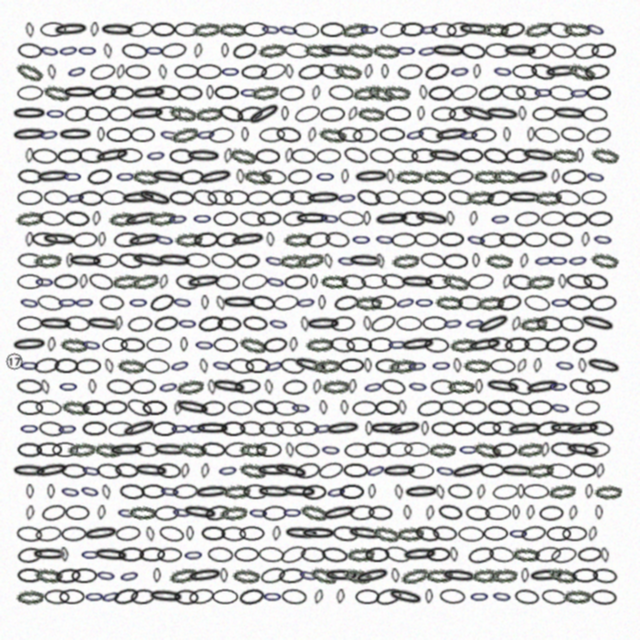chain: (245, 99, 284, 129), (474, 310, 513, 338), (120, 416, 159, 441), (458, 102, 497, 126), (135, 186, 174, 210), (578, 312, 617, 335), (291, 354, 330, 377), (196, 166, 235, 188), (122, 208, 161, 230), (584, 355, 623, 377), (271, 460, 310, 482), (449, 460, 488, 482), (320, 502, 359, 524), (353, 565, 392, 587), (386, 586, 425, 608), (93, 145, 132, 166), (412, 208, 451, 229), (129, 250, 168, 271), (173, 397, 212, 418), (385, 418, 424, 439), (32, 460, 71, 481), (126, 230, 164, 250), (466, 335, 504, 355), (524, 377, 562, 397), (564, 440, 602, 460), (14, 60, 45, 84), (433, 125, 471, 144), (520, 146, 558, 165), (229, 230, 267, 249), (185, 272, 223, 291), (399, 335, 437, 354), (210, 377, 248, 396), (484, 377, 522, 396), (324, 419, 362, 438), (181, 503, 219, 522), (82, 524, 120, 543), (346, 524, 384, 543), (186, 566, 224, 585), (125, 396, 154, 420), (318, 42, 356, 60), (130, 84, 168, 102), (483, 105, 521, 123), (426, 147, 464, 165), (149, 168, 187, 186), (513, 168, 551, 186), (373, 210, 411, 228), (84, 315, 122, 333), (506, 420, 544, 438), (564, 420, 602, 438), (193, 483, 231, 501), (92, 546, 130, 564), (440, 567, 478, 585), (566, 61, 597, 83), (365, 82, 396, 104), (169, 124, 200, 146), (399, 565, 430, 587), (369, 312, 398, 335), (506, 375, 535, 398), (279, 543, 308, 566), (52, 21, 90, 38), (543, 63, 581, 80), (132, 462, 170, 479), (401, 546, 439, 563), (147, 588, 185, 605), (148, 291, 176, 314), (293, 103, 322, 125), (523, 19, 553, 40), (295, 250, 325, 271), (130, 271, 160, 292), (299, 502, 329, 523), (168, 565, 198, 586), (309, 565, 339, 586), (457, 21, 494, 38), (129, 105, 166, 122), (551, 105, 588, 122), (11, 126, 48, 143), (35, 168, 72, 185), (353, 168, 390, 185), (41, 231, 78, 248), (156, 252, 193, 269), (11, 336, 48, 353), (281, 483, 318, 500), (283, 525, 320, 542), (528, 567, 565, 584), (217, 103, 245, 125), (259, 61, 288, 82), (383, 544, 412, 565), (374, 586, 403, 607), (340, 20, 370, 40), (42, 83, 72, 103), (351, 83, 381, 103), (228, 146, 258, 166), (441, 272, 471, 292), (238, 335, 268, 355), (175, 377, 205, 397), (472, 440, 502, 460), (371, 524, 401, 544), (99, 22, 136, 38), (430, 43, 467, 59), (502, 43, 539, 59), (185, 148, 222, 164), (120, 190, 157, 206), (305, 190, 342, 206), (67, 253, 104, 269), (347, 253, 384, 269), (399, 274, 436, 290), (37, 316, 74, 332), (305, 316, 342, 332), (108, 442, 145, 458), (152, 442, 189, 458), (11, 463, 48, 479), (381, 463, 418, 479), (499, 463, 536, 479), (256, 484, 293, 500), (403, 484, 440, 500), (231, 40, 259, 61), (423, 61, 451, 82), (529, 61, 557, 82), (342, 145, 370, 166), (191, 187, 219, 208), (355, 187, 383, 208), (87, 271, 115, 292), (568, 376, 596, 397), (506, 397, 534, 418), (317, 460, 345, 481), (40, 502, 68, 523), (259, 565, 287, 586), (112, 586, 140, 607), (257, 41, 287, 60), (333, 62, 363, 81), (250, 83, 280, 102), (168, 104, 198, 123), (590, 146, 620, 165), (147, 209, 177, 228), (515, 440, 545, 459), (238, 461, 268, 480), (525, 461, 555, 480), (547, 482, 577, 501), (548, 566, 578, 585), (89, 62, 117, 82), (297, 62, 325, 82), (236, 104, 264, 124), (417, 125, 445, 145), (533, 125, 561, 145), (36, 293, 64, 313), (523, 293, 551, 313), (416, 398, 444, 418), (467, 545, 495, 565), (550, 545, 578, 565), (61, 85, 98, 100), (11, 106, 48, 121), (57, 127, 94, 142), (506, 190, 543, 205), (294, 211, 331, 226), (221, 295, 258, 310), (194, 421, 231, 436), (368, 421, 405, 436), (548, 421, 585, 436), (255, 463, 292, 478), (300, 526, 337, 541), (31, 547, 68, 562), (323, 568, 360, 583), (192, 20, 221, 39), (15, 209, 44, 228), (590, 251, 619, 270), (111, 272, 140, 291), (499, 20, 526, 40), (547, 20, 574, 40), (573, 41, 600, 61), (477, 83, 504, 103), (585, 125, 612, 145), (333, 293, 360, 313), (571, 335, 598, 355), (279, 356, 306, 376), (380, 377, 407, 397), (204, 503, 231, 523), (158, 524, 185, 544), (414, 524, 441, 544), (126, 20, 154, 39), (379, 20, 407, 39), (160, 41, 188, 60), (451, 83, 479, 102), (554, 188, 582, 207), (241, 272, 269, 291), (467, 272, 495, 291), (565, 272, 593, 291), (272, 293, 300, 312), (33, 356, 61, 375), (488, 545, 516, 564), (534, 545, 562, 564), (583, 19, 608, 40), (194, 105, 223, 123), (318, 126, 347, 144), (243, 168, 272, 186), (108, 210, 137, 228), (391, 252, 420, 270), (526, 273, 555, 291), (476, 294, 505, 312), (519, 315, 548, 333), (449, 336, 478, 354), (312, 357, 341, 375), (388, 357, 417, 375), (219, 504, 248, 522), (343, 567, 372, 585), (318, 62, 345, 81), (91, 83, 118, 102), (275, 125, 302, 144), (482, 146, 509, 165), (86, 167, 113, 186), (269, 188, 296, 207), (447, 188, 474, 207), (305, 230, 332, 249), (324, 230, 351, 249), (117, 251, 144, 270), (210, 251, 237, 270), (419, 251, 446, 270), (380, 272, 407, 291), (582, 272, 609, 291), (496, 293, 523, 312), (153, 314, 180, 333), (197, 314, 224, 333), (544, 335, 571, 354), (252, 398, 279, 417), (535, 419, 562, 438), (588, 419, 615, 438), (294, 461, 321, 480), (437, 503, 464, 522), (520, 524, 547, 543), (188, 587, 215, 606), (238, 587, 265, 606), (447, 168, 475, 186), (364, 460, 388, 481), (345, 42, 374, 59), (382, 84, 411, 101), (466, 189, 495, 206), (174, 231, 203, 248), (283, 231, 312, 248), (33, 252, 62, 269), (305, 336, 334, 353), (321, 378, 350, 395), (61, 399, 90, 416), (67, 441, 96, 458), (178, 441, 207, 458), (222, 483, 251, 500), (346, 546, 375, 563), (34, 567, 63, 584), (471, 567, 500, 584), (489, 567, 518, 584), (121, 42, 148, 60), (548, 84, 575, 102), (208, 126, 235, 144), (486, 189, 513, 207), (239, 210, 266, 228), (514, 210, 541, 228), (340, 273, 367, 291), (508, 273, 535, 291), (249, 294, 276, 312), (590, 294, 617, 312), (262, 336, 289, 354), (329, 336, 356, 354), (228, 357, 255, 375), (574, 399, 601, 417), (38, 420, 65, 438), (276, 420, 303, 438), (546, 462, 573, 480), (492, 483, 519, 501), (16, 525, 43, 543), (35, 525, 62, 543), (321, 546, 348, 564), (262, 356, 286, 376), (460, 42, 486, 60), (527, 42, 553, 60), (550, 42, 576, 60), (515, 84, 541, 102), (261, 168, 287, 186), (175, 273, 201, 291), (127, 315, 153, 333), (559, 315, 585, 333), (439, 399, 465, 417), (294, 441, 320, 459), (96, 462, 122, 480), (17, 546, 43, 564), (55, 567, 81, 585), (592, 567, 618, 585), (514, 588, 540, 606), (541, 588, 567, 606), (284, 42, 311, 59), (154, 84, 181, 101), (78, 147, 105, 164), (392, 147, 419, 164), (397, 189, 424, 206), (39, 210, 66, 227), (338, 210, 365, 227), (31, 231, 58, 248), (113, 231, 140, 248), (184, 252, 211, 269), (64, 315, 91, 332), (536, 315, 563, 332), (16, 378, 43, 395), (106, 378, 133, 395), (234, 378, 261, 395), (35, 399, 62, 416), (492, 420, 519, 437), (364, 441, 391, 458), (386, 441, 413, 458), (550, 441, 577, 458), (584, 441, 611, 458), (172, 483, 199, 500), (332, 525, 359, 542), (207, 546, 234, 563), (258, 546, 285, 563), (278, 567, 305, 584), (439, 588, 466, 605), (65, 62, 89, 81), (168, 356, 192, 375), (78, 482, 102, 501), (99, 587, 123, 606), (372, 43, 400, 59), (357, 106, 385, 122), (132, 169, 160, 185), (534, 190, 562, 206), (279, 253, 307, 269), (485, 253, 513, 269), (354, 295, 382, 311), (60, 337, 88, 353), (117, 358, 145, 374), (94, 442, 122, 458), (428, 442, 456, 458), (594, 484, 622, 500), (396, 526, 424, 542), (232, 568, 260, 584), (16, 589, 44, 605), (446, 21, 472, 38), (17, 42, 43, 59), (397, 63, 423, 80), (584, 63, 610, 80), (328, 84, 354, 101), (500, 84, 526, 101), (64, 105, 90, 122), (108, 105, 134, 122), (448, 105, 474, 122), (337, 126, 363, 143), (560, 126, 586, 143), (369, 147, 395, 164), (17, 168, 43, 185), (287, 168, 313, 185), (561, 168, 587, 185), (43, 189, 69, 206), (207, 189, 233, 206), (289, 189, 315, 206), (64, 210, 90, 227), (282, 210, 308, 227), (400, 210, 426, 227), (540, 210, 566, 227), (587, 210, 613, 227), (72, 231, 98, 248), (193, 231, 219, 248), (215, 231, 241, 248), (548, 231, 574, 248), (17, 252, 43, 269), (53, 273, 79, 290), (99, 294, 125, 311), (567, 294, 593, 311), (242, 315, 268, 332), (330, 315, 356, 332), (487, 336, 513, 353), (504, 336, 530, 353), (462, 399, 488, 416), (487, 399, 513, 416), (239, 420, 265, 437), (134, 441, 160, 458), (200, 441, 226, 458), (224, 441, 250, 458), (114, 462, 140, 479), (156, 462, 182, 479), (119, 483, 145, 500), (447, 483, 473, 500), (349, 504, 375, 521), (115, 525, 141, 542), (432, 525, 458, 542), (300, 546, 326, 563), (577, 546, 603, 563), (130, 588, 156, 605), (281, 588, 307, 605), (404, 125, 427, 144), (394, 293, 417, 312), (297, 566, 320, 585), (590, 589, 617, 605), (218, 22, 246, 37), (481, 22, 509, 37), (563, 22, 591, 37), (304, 43, 332, 58), (551, 148, 579, 163), (395, 169, 423, 184), (422, 169, 450, 184), (473, 169, 501, 184), (492, 169, 520, 184), (320, 274, 348, 289), (435, 295, 463, 310), (463, 358, 491, 373), (447, 379, 475, 394), (239, 442, 267, 457), (128, 505, 156, 520), (512, 547, 540, 562), (425, 568, 453, 583), (563, 589, 591, 604), (293, 22, 319, 38), (431, 22, 457, 38), (125, 64, 151, 80), (241, 64, 267, 80), (17, 85, 43, 101), (279, 85, 305, 101), (582, 106, 608, 122), (259, 127, 285, 143), (352, 127, 378, 143), (471, 127, 497, 143), (32, 148, 58, 164), (246, 190, 272, 206), (391, 232, 417, 248), (479, 232, 505, 248), (235, 253, 261, 269), (75, 358, 101, 374), (144, 358, 170, 374), (490, 358, 516, 374), (282, 379, 308, 395), (430, 379, 456, 395), (227, 400, 253, 416), (273, 400, 299, 416), (108, 421, 134, 437), (61, 463, 87, 479), (408, 463, 434, 479), (465, 505, 491, 521), (61, 526, 87, 542), (458, 526, 484, 542), (44, 589, 70, 605), (277, 21, 300, 39), (38, 42, 61, 60), (416, 42, 439, 60), (158, 126, 181, 144), (584, 168, 607, 186), (64, 189, 87, 207), (153, 231, 176, 249), (465, 231, 488, 249), (263, 252, 286, 270), (264, 273, 287, 291), (18, 294, 41, 312), (267, 315, 290, 333), (80, 336, 103, 354), (157, 378, 180, 396), (362, 378, 385, 396), (549, 399, 572, 417), (80, 462, 103, 480), (434, 462, 457, 480), (59, 483, 82, 501), (325, 483, 348, 501), (118, 567, 141, 585), (110, 85, 135, 101), (178, 85, 203, 101), (428, 85, 453, 101), (320, 106, 345, 122), (431, 106, 456, 122), (532, 106, 557, 122), (57, 148, 82, 164), (169, 148, 194, 164), (255, 148, 280, 164), (291, 148, 316, 164), (316, 148, 341, 164), (179, 169, 204, 185), (78, 190, 103, 206), (169, 190, 194, 206), (563, 211, 588, 227), (499, 232, 524, 248), (443, 253, 468, 269), (215, 274, 240, 290), (284, 274, 309, 290), (458, 295, 483, 311), (217, 316, 242, 332), (120, 337, 145, 353), (424, 337, 449, 353), (375, 358, 400, 374), (201, 400, 226, 416), (352, 400, 377, 416), (259, 421, 284, 437), (431, 421, 456, 437), (17, 442, 42, 458), (344, 442, 369, 458), (492, 442, 517, 458), (302, 484, 327, 500), (154, 505, 179, 521), (262, 505, 287, 521), (368, 505, 393, 521), (539, 505, 564, 521), (221, 526, 246, 542), (157, 547, 182, 563), (174, 589, 199, 605), (57, 42, 80, 59), (171, 294, 194, 311), (40, 22, 66, 37), (174, 22, 200, 37), (243, 22, 269, 37), (196, 64, 222, 79), (155, 106, 181, 121), (385, 106, 411, 121), (106, 127, 132, 142), (379, 127, 405, 142), (117, 148, 143, 163), (411, 148, 437, 163), (17, 190, 43, 205), (101, 190, 127, 205), (581, 190, 607, 205), (93, 253, 119, 268), (17, 274, 43, 289), (361, 274, 387, 289), (425, 274, 451, 289), (371, 295, 397, 310), (17, 316, 43, 331), (396, 316, 422, 331), (422, 316, 448, 331), (102, 337, 128, 352), (146, 337, 172, 352), (346, 337, 372, 352), (17, 400, 43, 415), (36, 442, 62, 457), (52, 442, 78, 457), (256, 442, 282, 457), (404, 442, 430, 457), (523, 484, 549, 499), (485, 505, 511, 520), (239, 526, 265, 541), (118, 547, 144, 562), (139, 547, 165, 562), (71, 568, 97, 583), (572, 568, 598, 583), (59, 589, 85, 604), (212, 589, 238, 604), (151, 22, 176, 37), (320, 22, 345, 37), (400, 22, 425, 37), (485, 43, 510, 58), (591, 43, 616, 58), (174, 64, 199, 79), (512, 64, 537, 79), (214, 85, 239, 100), (586, 85, 611, 100), (85, 106, 110, 121), (130, 127, 155, 142), (459, 148, 484, 163), (505, 148, 530, 163), (224, 190, 249, 205), (375, 190, 400, 205), (421, 190, 446, 205), (213, 211, 238, 226), (257, 211, 282, 226), (414, 232, 439, 247), (439, 232, 464, 247), (523, 232, 548, 247), (213, 337, 238, 352), (368, 337, 393, 352), (524, 337, 549, 352), (54, 358, 79, 373), (245, 358, 270, 373), (339, 358, 364, 373), (131, 379, 156, 394), (586, 379, 611, 394), (82, 400, 107, 415), (103, 400, 128, 415), (142, 400, 167, 415), (375, 400, 400, 415), (528, 400, 553, 415), (82, 421, 107, 436), (152, 421, 177, 436), (221, 421, 246, 436), (294, 421, 319, 436), (452, 421, 477, 436), (476, 421, 501, 436), (343, 463, 368, 478), (480, 463, 505, 478), (572, 463, 597, 478), (141, 484, 166, 499), (243, 484, 268, 499), (339, 484, 364, 499), (65, 505, 90, 520), (201, 526, 226, 541), (483, 526, 508, 541), (546, 526, 571, 541), (562, 526, 587, 541), (234, 547, 259, 562), (365, 547, 390, 562), (426, 547, 451, 562), (17, 568, 42, 583), (355, 589, 380, 604), (260, 21, 282, 38), (418, 21, 440, 38), (449, 63, 471, 80), (492, 63, 514, 80), (38, 126, 60, 143), (195, 126, 217, 143), (145, 147, 167, 164), (319, 210, 341, 227), (374, 231, 396, 248), (592, 231, 614, 248), (533, 252, 555, 269), (567, 252, 589, 269), (295, 294, 317, 311), (442, 315, 464, 332), (464, 315, 486, 332), (211, 357, 233, 374), (554, 357, 576, 374), (407, 378, 429, 395), (312, 420, 334, 437), (217, 462, 239, 479), (159, 483, 181, 500), (171, 504, 193, 521), (95, 567, 117, 584), (491, 588, 513, 605), (458, 127, 480, 143), (336, 190, 358, 206), (167, 211, 189, 227), (336, 253, 358, 269), (290, 400, 312, 416), (320, 442, 342, 458), (116, 505, 138, 521), (569, 85, 590, 101), (490, 211, 511, 227), (34, 274, 55, 290), (194, 337, 215, 353), (407, 358, 428, 374), (57, 421, 78, 437), (248, 505, 269, 521), (183, 547, 204, 563), (359, 22, 380, 37), (77, 43, 98, 58), (144, 43, 165, 58), (396, 43, 417, 58), (220, 64, 241, 79), (239, 85, 260, 100), (533, 85, 554, 100), (45, 106, 66, 121), (62, 169, 83, 184), (115, 169, 136, 184), (315, 169, 336, 184), (192, 211, 213, 226), (351, 232, 372, 247), (548, 253, 569, 268), (57, 295, 78, 310), (74, 295, 95, 310), (128, 295, 149, 310), (414, 295, 435, 310), (550, 295, 571, 310), (177, 316, 198, 331), (387, 337, 408, 352), (19, 358, 40, 373), (431, 358, 452, 373), (58, 379, 79, 394), (548, 379, 569, 394), (19, 421, 40, 436), (170, 421, 191, 436), (186, 421, 207, 436), (458, 442, 479, 457), (282, 505, 303, 520), (508, 526, 529, 541), (80, 547, 101, 562), (84, 589, 105, 604), (262, 589, 283, 604), (469, 589, 490, 604), (346, 106, 359, 122), (515, 358, 528, 374), (501, 274, 513, 290), (215, 295, 227, 311), (510, 316, 522, 332), (115, 64, 126, 80), (323, 253, 334, 269), (375, 253, 386, 269), (158, 274, 169, 290), (104, 358, 115, 374), (40, 379, 51, 395), (101, 484, 112, 500), (435, 484, 446, 500), (145, 526, 156, 542), (587, 526, 598, 542), (313, 589, 324, 605), (25, 22, 35, 38), (103, 43, 113, 59), (193, 43, 203, 59), (47, 64, 57, 80), (158, 64, 168, 80), (311, 85, 321, 101), (307, 127, 317, 143), (223, 148, 233, 164), (519, 253, 529, 269), (300, 316, 310, 332), (199, 358, 209, 374), (207, 379, 217, 395), (264, 379, 274, 395), (312, 379, 322, 395), (173, 400, 183, 416), (285, 442, 295, 458), (540, 442, 550, 458), (180, 463, 190, 479), (200, 463, 210, 479), (595, 463, 605, 479), (394, 484, 404, 500), (476, 484, 486, 500), (25, 505, 35, 521), (425, 505, 435, 521), (568, 505, 578, 521), (600, 547, 610, 563), (502, 127, 512, 142), (284, 148, 294, 163), (449, 547, 459, 562), (90, 22, 99, 37), (285, 64, 294, 79), (364, 64, 373, 79), (419, 85, 428, 100), (518, 106, 527, 121), (25, 148, 34, 163), (236, 169, 245, 184), (386, 169, 395, 184), (551, 169, 560, 184), (92, 211, 101, 226), (446, 211, 455, 226), (469, 211, 478, 226), (25, 232, 34, 247), (266, 232, 275, 247), (581, 232, 590, 247), (79, 274, 88, 289), (558, 274, 567, 289), (114, 316, 123, 331), (363, 316, 372, 331), (47, 337, 56, 352), (289, 337, 298, 352), (453, 358, 462, 373), (533, 358, 542, 373), (578, 358, 587, 373), (88, 379, 97, 394), (348, 379, 357, 394), (319, 400, 328, 415), (340, 400, 349, 415), (398, 400, 407, 415), (97, 505, 106, 520), (403, 505, 412, 520), (526, 505, 535, 520), (272, 526, 281, 541), (60, 547, 69, 562), (391, 568, 400, 583), (336, 589, 345, 604), (221, 43, 229, 58), (381, 64, 389, 79), (473, 64, 481, 79), (206, 85, 214, 100), (281, 106, 289, 121), (417, 106, 425, 121), (97, 127, 105, 142), (241, 127, 249, 142), (527, 127, 535, 142), (576, 148, 584, 163), (341, 169, 349, 184), (363, 211, 371, 226), (98, 232, 106, 247), (66, 253, 74, 268), (472, 253, 480, 268), (310, 274, 318, 289), (201, 295, 209, 310), (318, 295, 326, 310), (180, 337, 188, 352), (364, 358, 372, 373), (475, 379, 483, 394), (365, 421, 373, 436), (421, 421, 429, 436), (26, 484, 34, 499), (47, 484, 55, 499), (368, 484, 376, 499), (517, 484, 525, 499), (585, 484, 593, 499), (512, 505, 520, 520), (595, 505, 603, 520), (186, 526, 194, 541), (153, 568, 161, 583), (220, 568, 228, 583), (521, 568, 529, 583), (425, 589, 433, 604)
noise: (4, 351, 24, 371)
